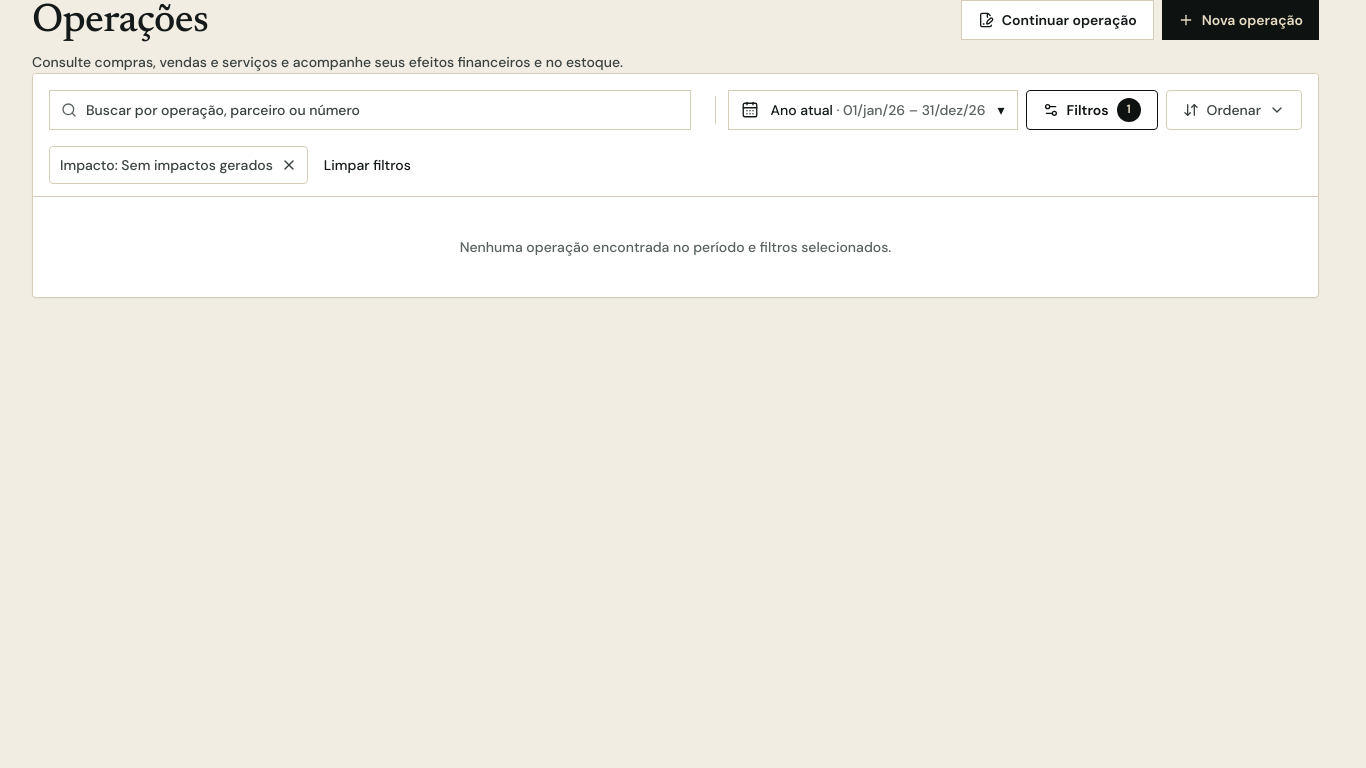
Test case: OperacoesFinanceiras — filtro de efeito vindo da rastreabilidade › abre já filtrado por SEM_EFEITOS quando a URL pede
The width and height of the screenshot is (1366, 768).
Click the button "Filtros 1": click(1092, 110) [1026,90,1158,130]
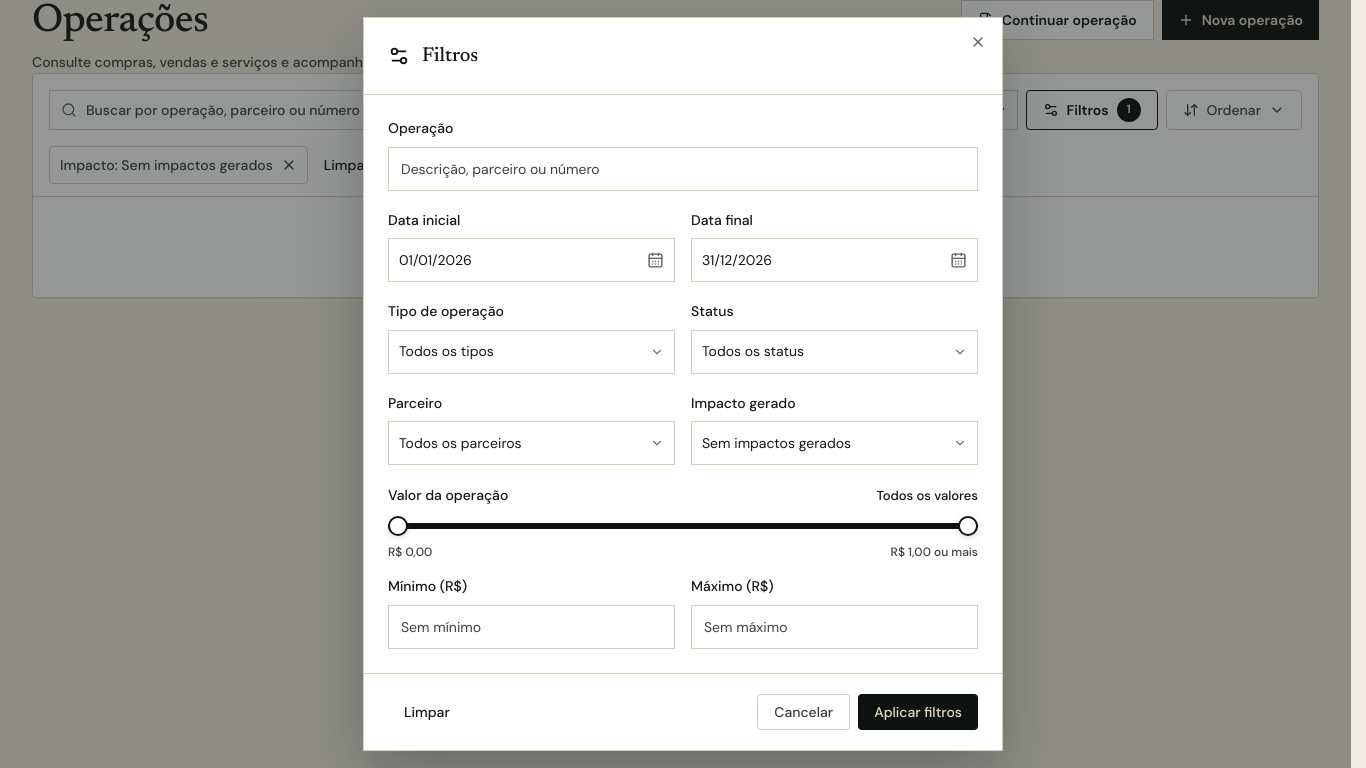
Result: the dropdown named "Filtrar por impacto gerado" holds "SEM_EFEITOS" at [691,421,978,465]
